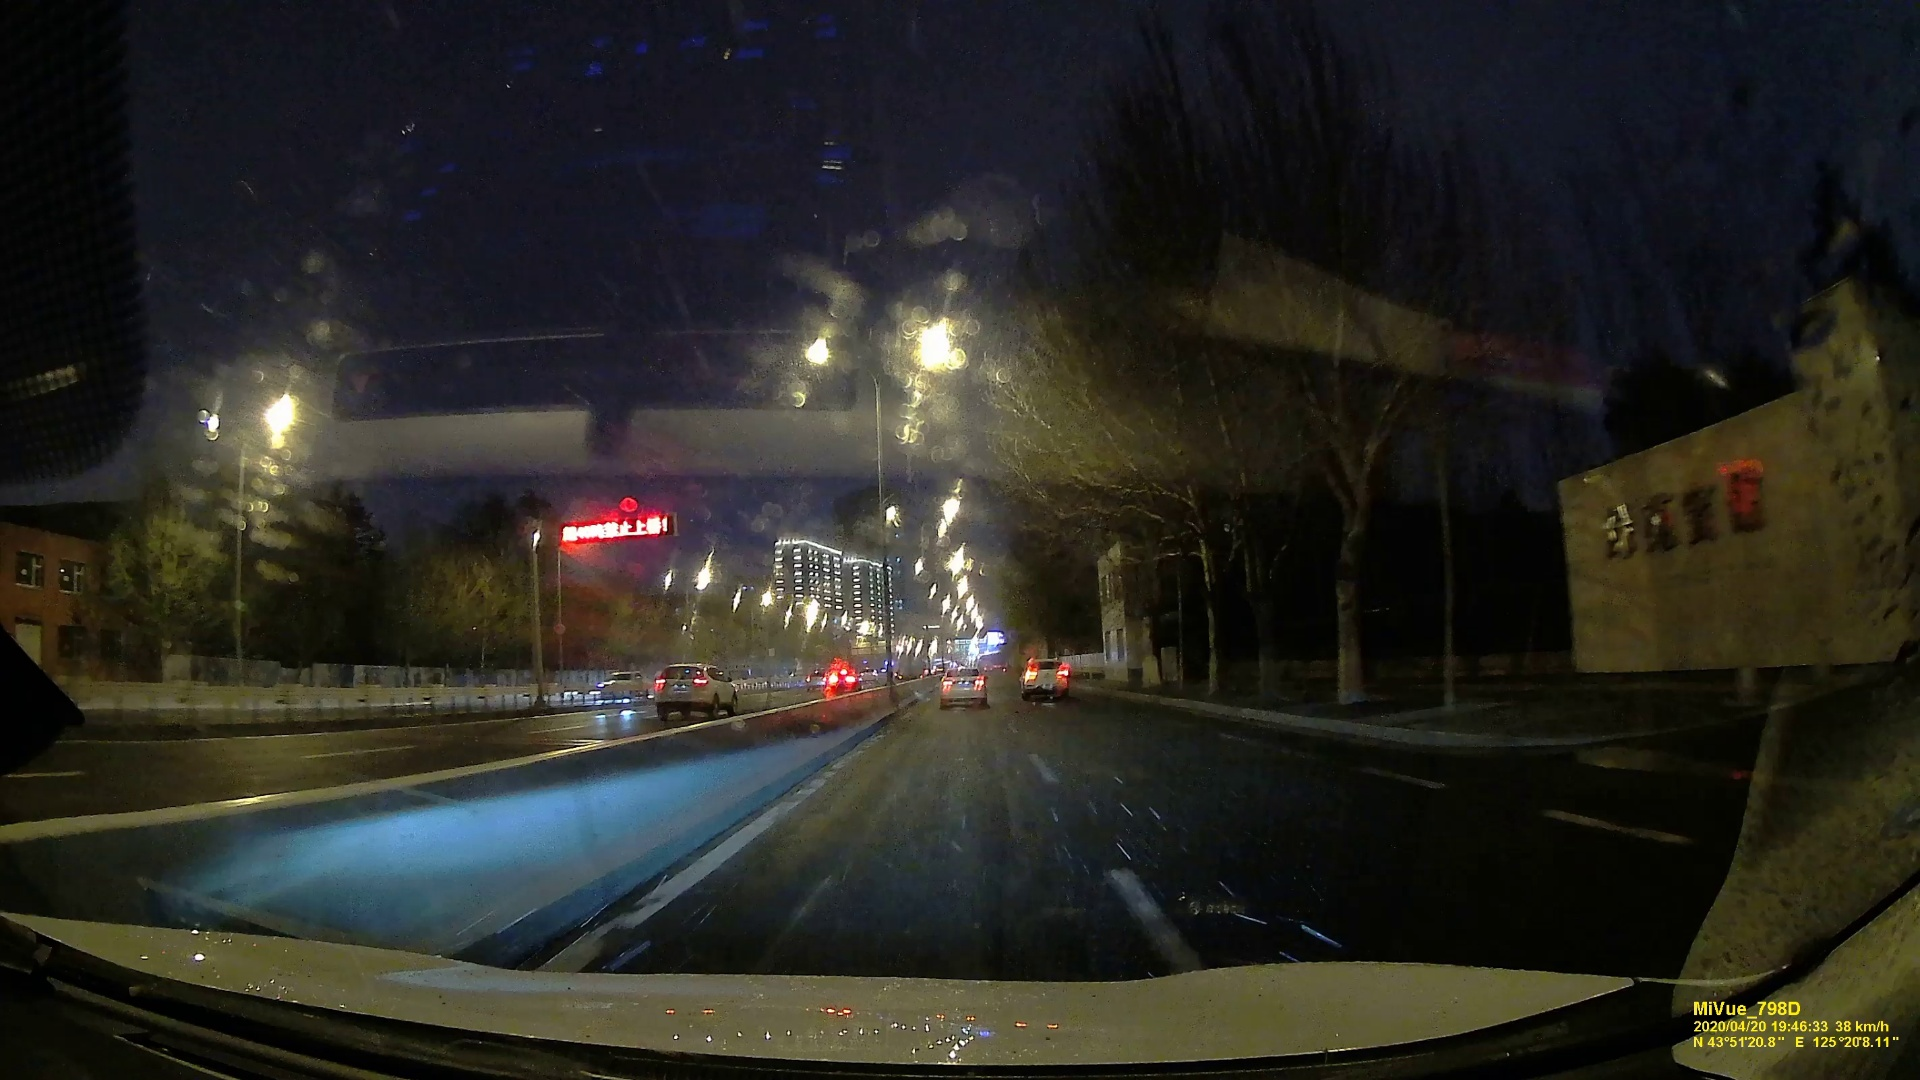vehicle: (651, 662, 740, 717), (1022, 658, 1071, 700), (942, 667, 986, 707), (827, 669, 860, 690)
